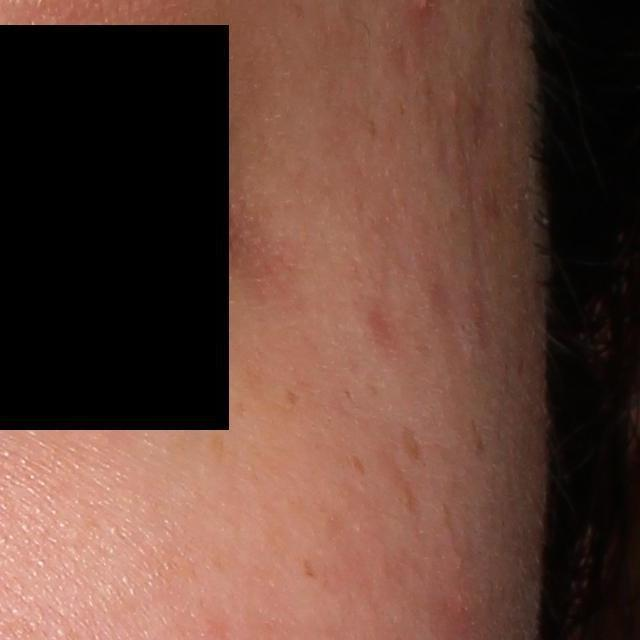melasma: (402, 420, 424, 463), (209, 429, 227, 466), (302, 553, 321, 580), (346, 452, 366, 475), (285, 386, 302, 409)
